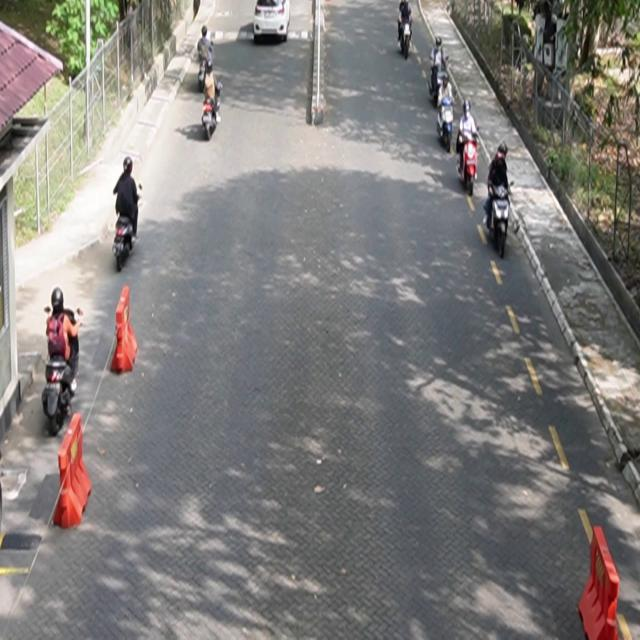car: (254, 1, 291, 44)
